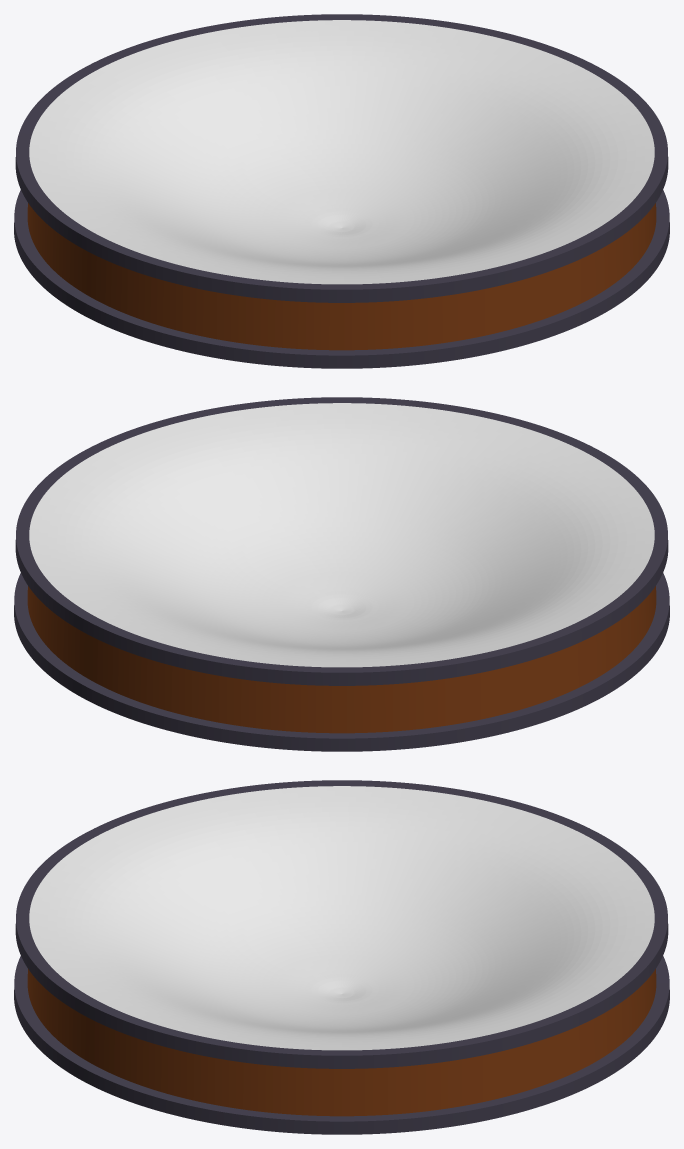
Rendered from druumm.fbx.
3 views of the same model, one above another, from view 1: azimuth 30°, elevation 25°; view 2: azimuth 150°, elevation 25°; view 3: azimuth 270°, elevation 25° (orthographic).
Parts seen in each view (by area): view 1: Sphere; view 2: Sphere; view 3: Sphere.
Part boxes in pixels (x1,y1,x2,y2): Sphere: (14,14,669,368); Sphere: (14,397,669,751); Sphere: (14,780,669,1134).
Size of the model in its own units: 386 by 55.59 by 386.
